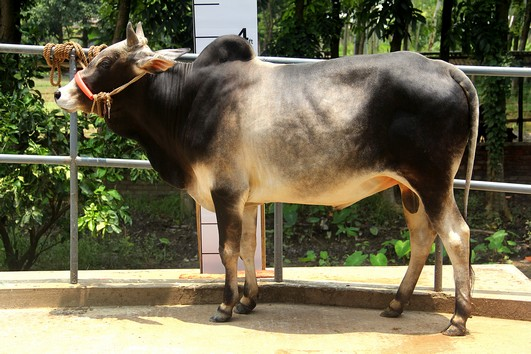cow: (47, 16, 484, 337)
